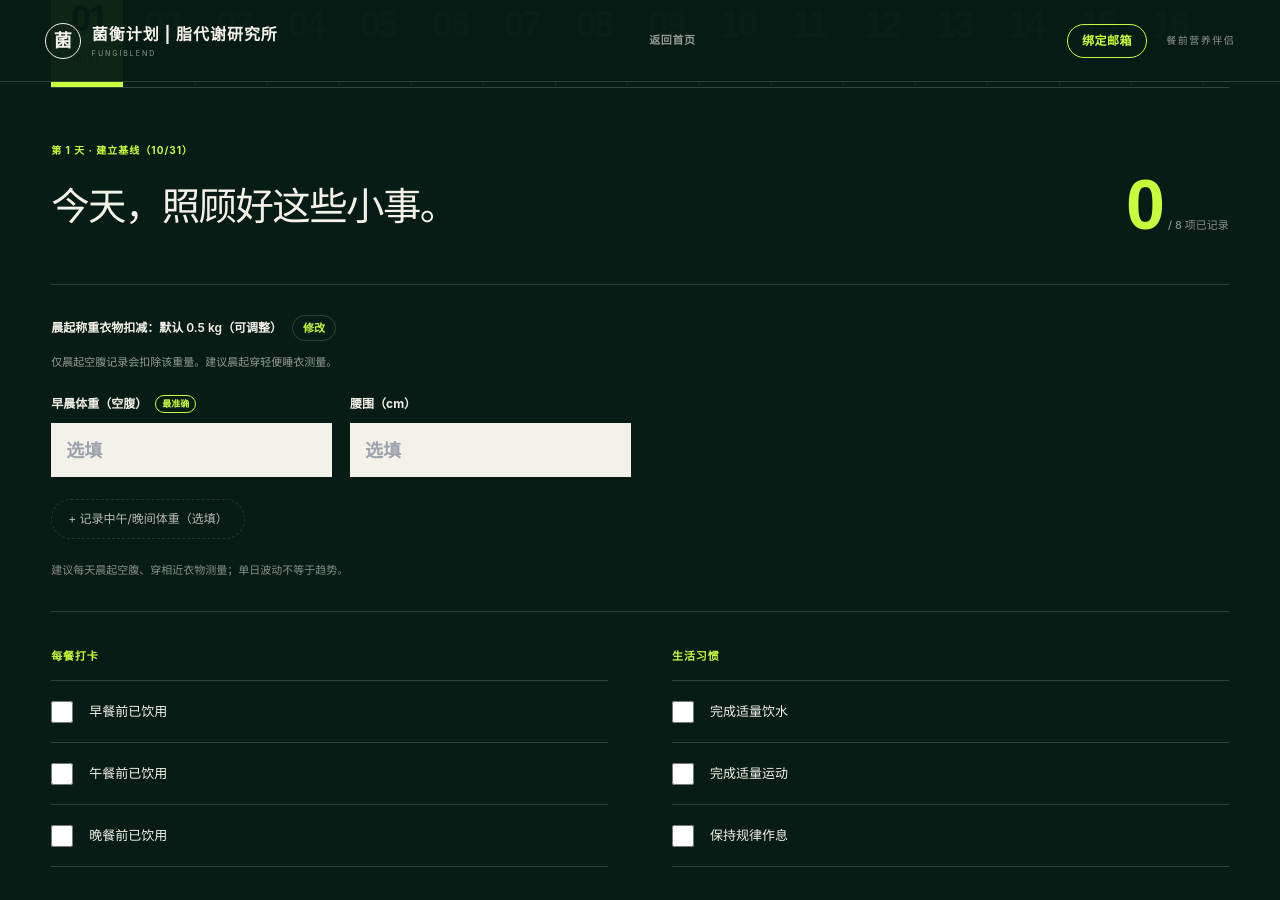
保存打卡强制登录 › OTP 成功后只恢复一次 pendingSave，保存完整输入且不产生重复记录
(page scrolled)
Step 1. Type "68" into the number field labelled "早晨体重（空腹）" → (192, 450), box [51,423,332,477]
(page scrolled)
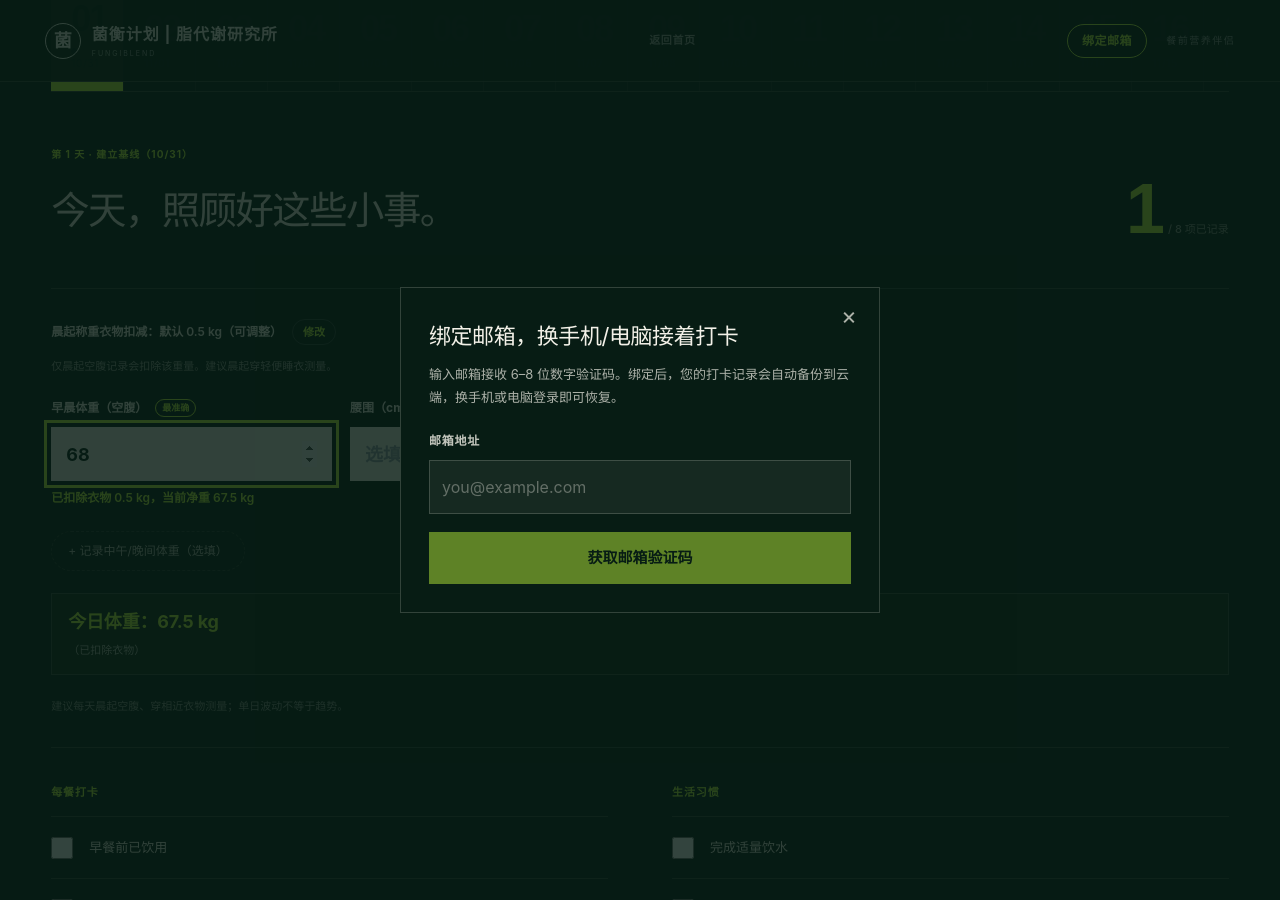
Step 2. Type "save@example.com" into the field labelled "邮箱地址" → (640, 487), box [429,460,851,514]
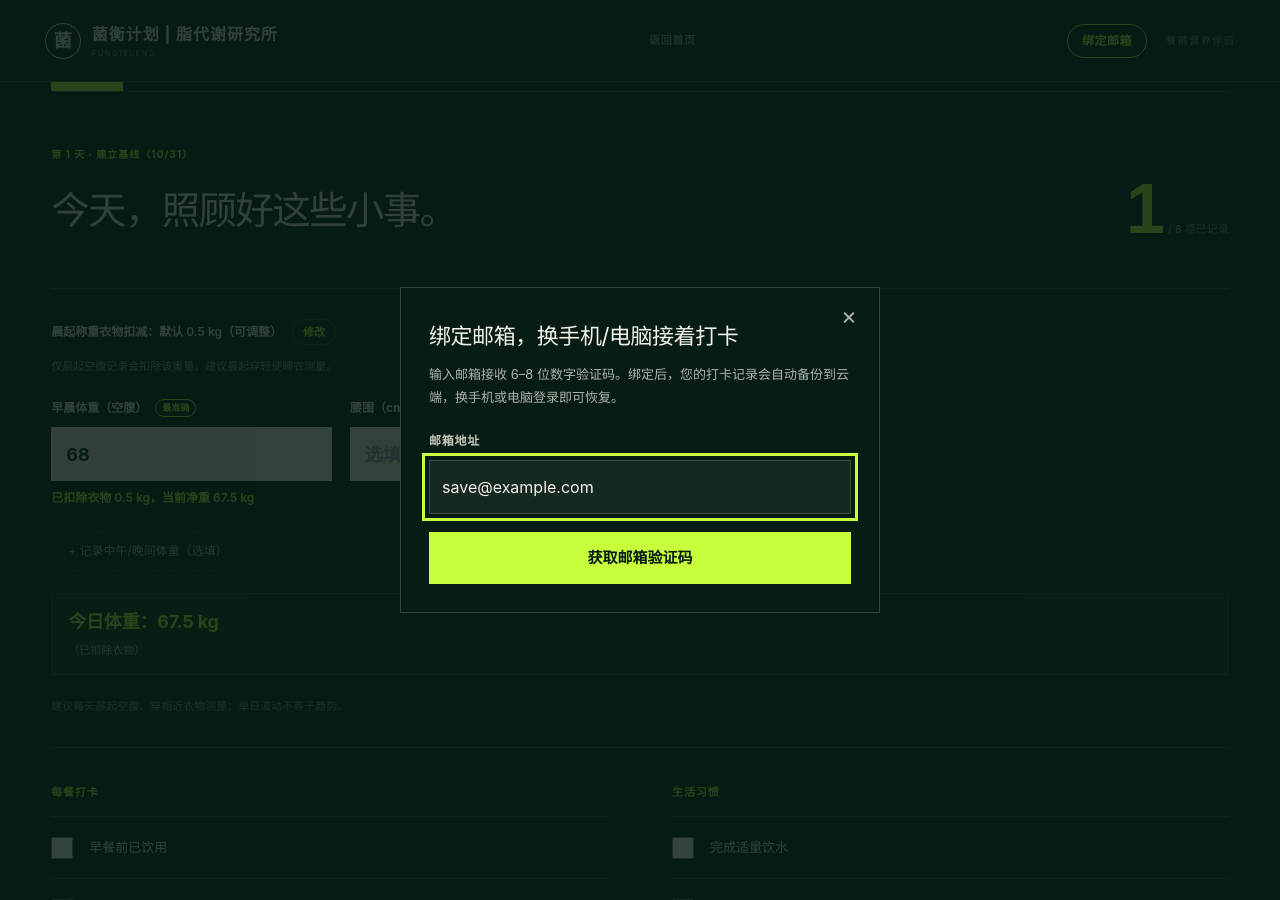
Step 3. Click the button "获取邮箱验证码" → (640, 558), box [429,532,851,584]
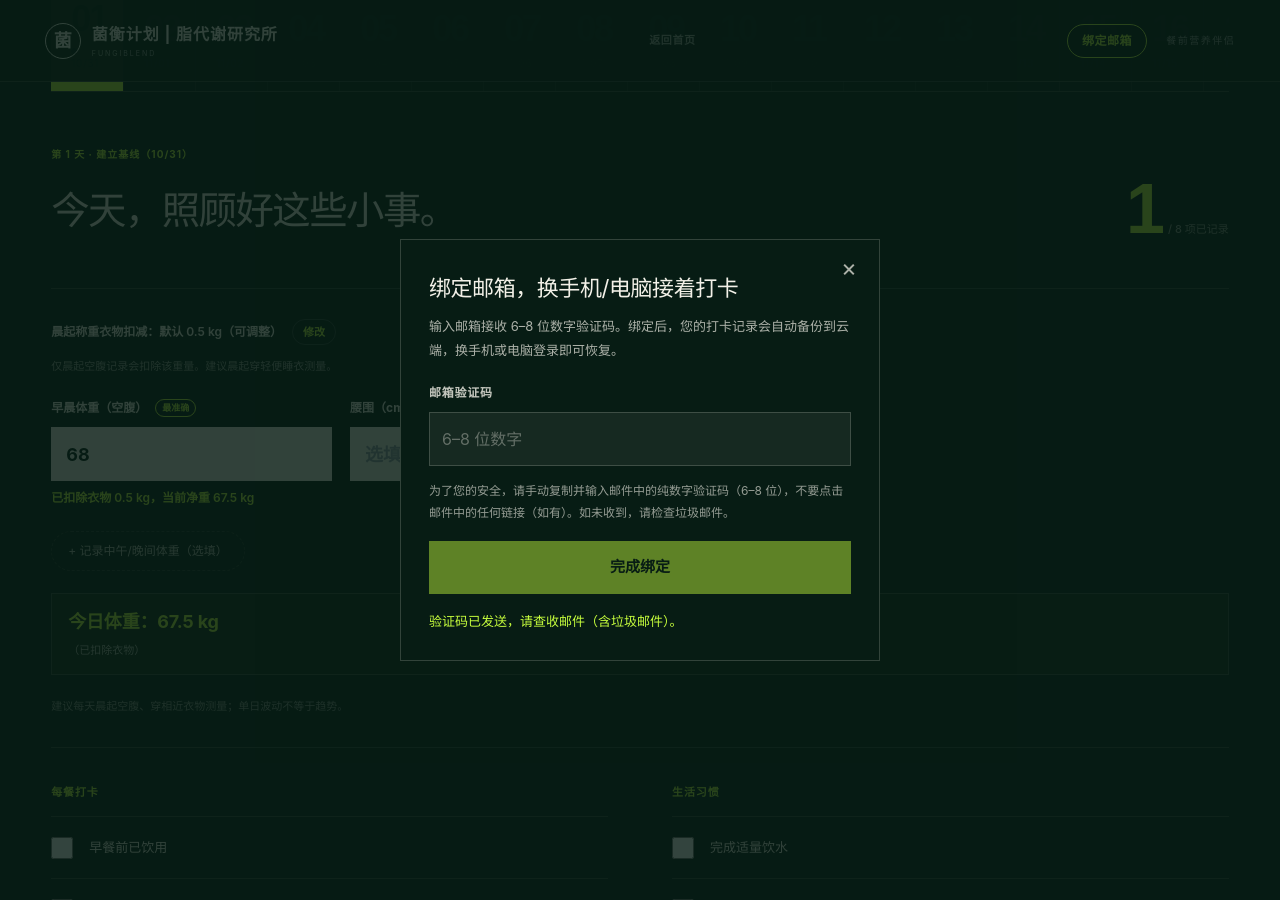
Step 4. Type "12345678" into the field labelled "邮箱验证码" → (640, 439), box [429,412,851,466]
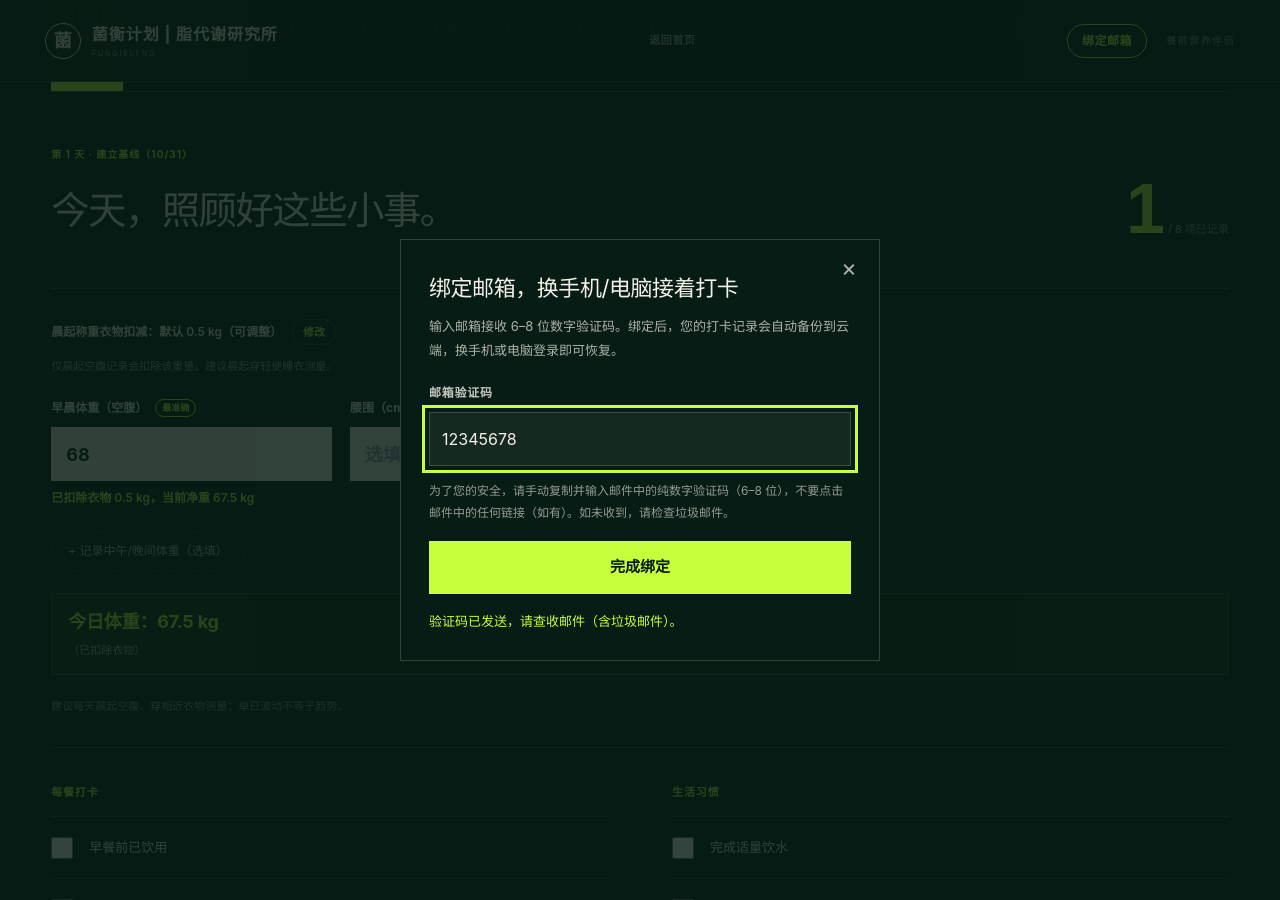
Step 5. Click the button "完成绑定" → (640, 567), box [429,541,851,594]
(page scrolled)
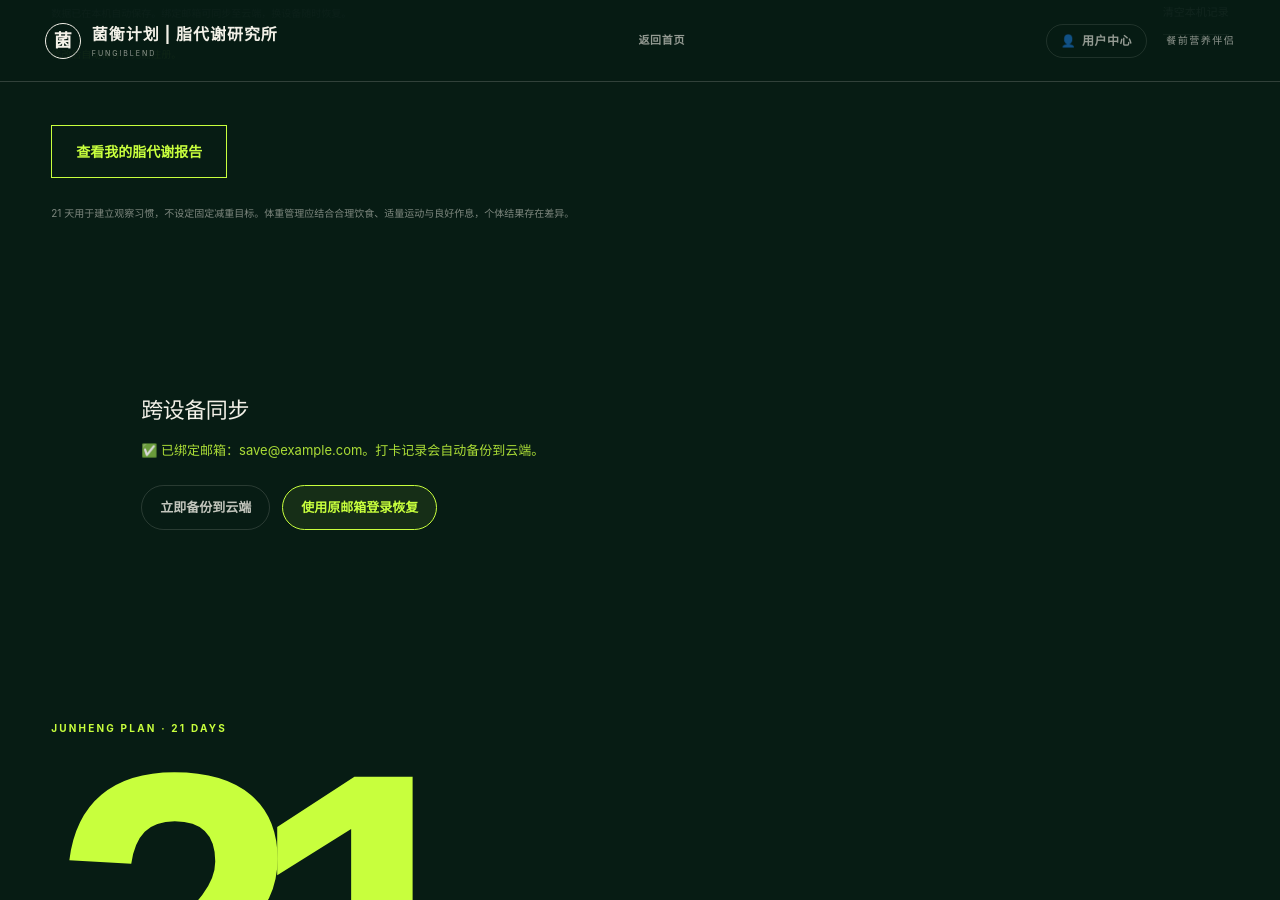
Result: the text "✅ 已绑定邮箱：save@example.com。打卡记录会自动备份到云端。" is shown at [141,442,544,458]
Result: the dialog is gone
